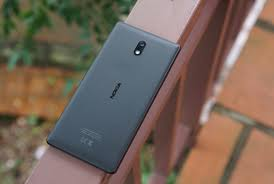nokia: (37, 19, 182, 177)
